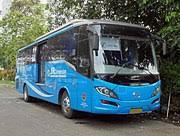bus: (18, 19, 170, 121)
